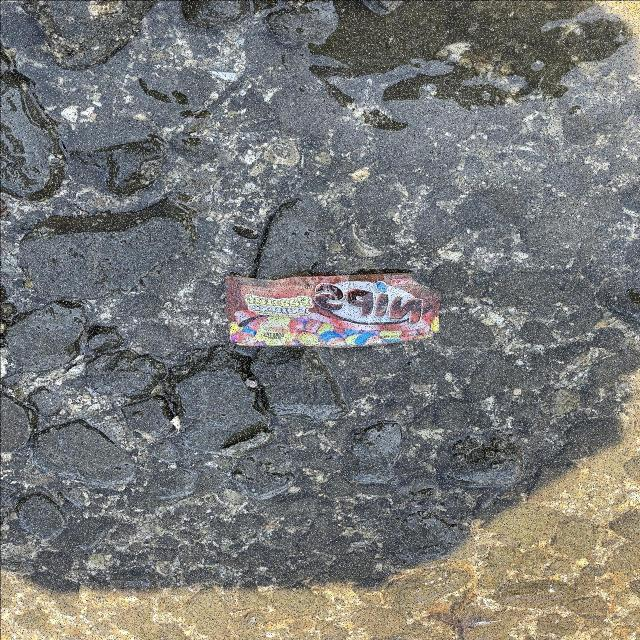plastic_waste: (227, 274, 441, 348)
